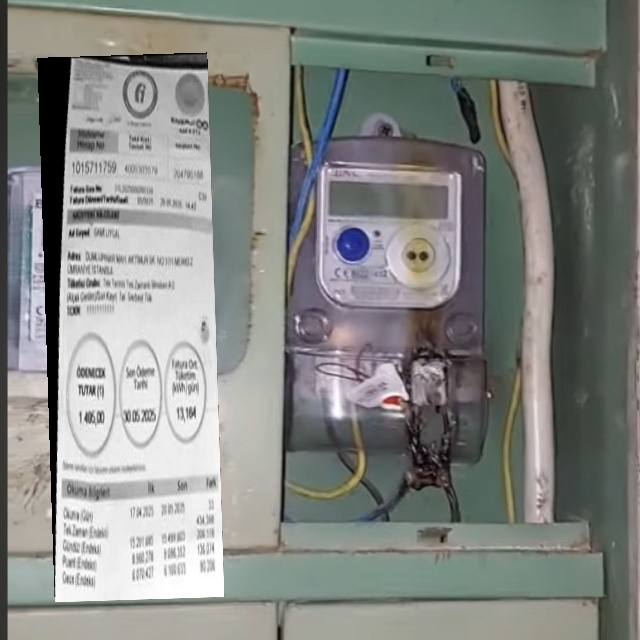electricity-bill: (36, 52, 224, 603)
